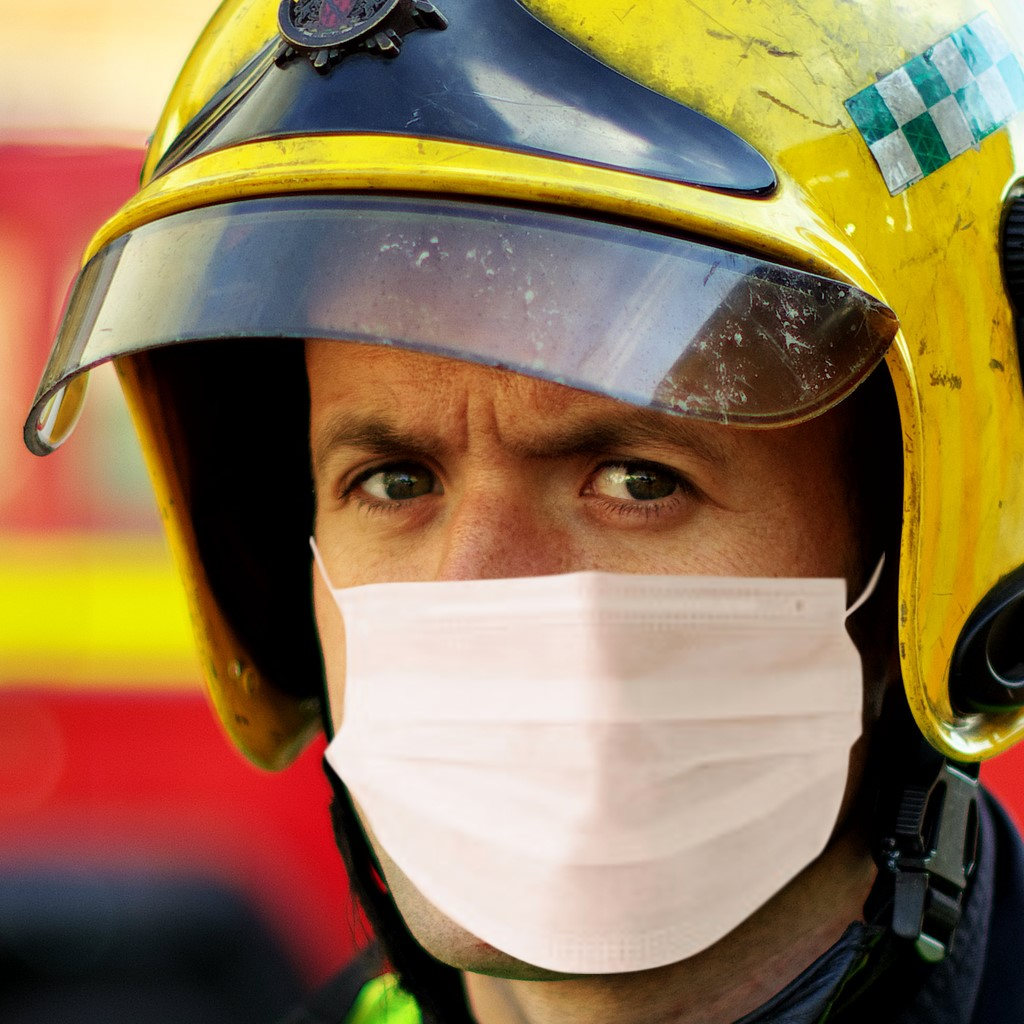con_mascara: (289, 205, 901, 980)
